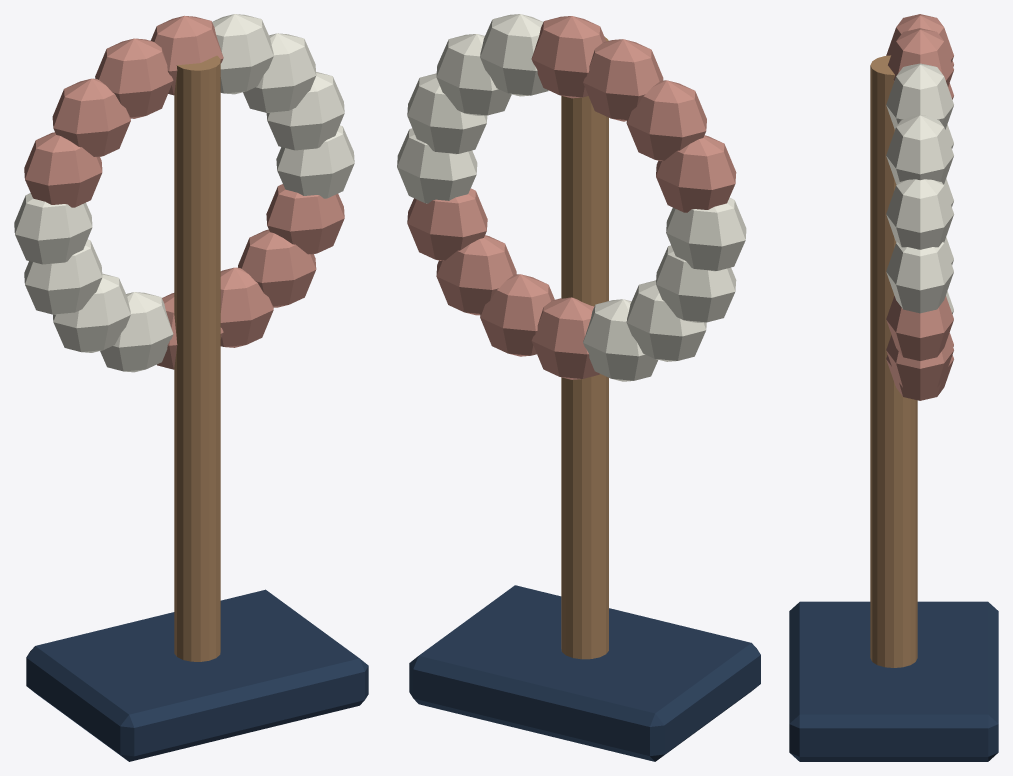
Rendered from buoy.glb.
3 views of the same model, side by side, from view 1: azimuth 30°, elevation 25°; view 2: azimuth 150°, elevation 25°; view 3: azimuth 270°, elevation 25° (orthographic). The views are drawn at different scales.
Visible parts, largest first — view 1: ring_segment (×16), foot, post; view 2: ring_segment (×16), foot, post; view 3: foot, ring_segment (×9), post.
Part boxes in pixels (x1=…): ring_segment (×16): x1=14, y1=14, x2=354, y2=372; foot: x1=26, y1=589, x2=368, y2=761; post: x1=174, y1=55, x2=220, y2=661; ring_segment (×16): x1=397, y1=14, x2=746, y2=381; foot: x1=409, y1=585, x2=760, y2=761; post: x1=561, y1=36, x2=608, y2=659; foot: x1=789, y1=601, x2=998, y2=761; ring_segment (×9): x1=886, y1=14, x2=953, y2=400; post: x1=870, y1=55, x2=917, y2=667.
Bounding box in the file's own units: 0.75 × 1.42 × 0.4.
